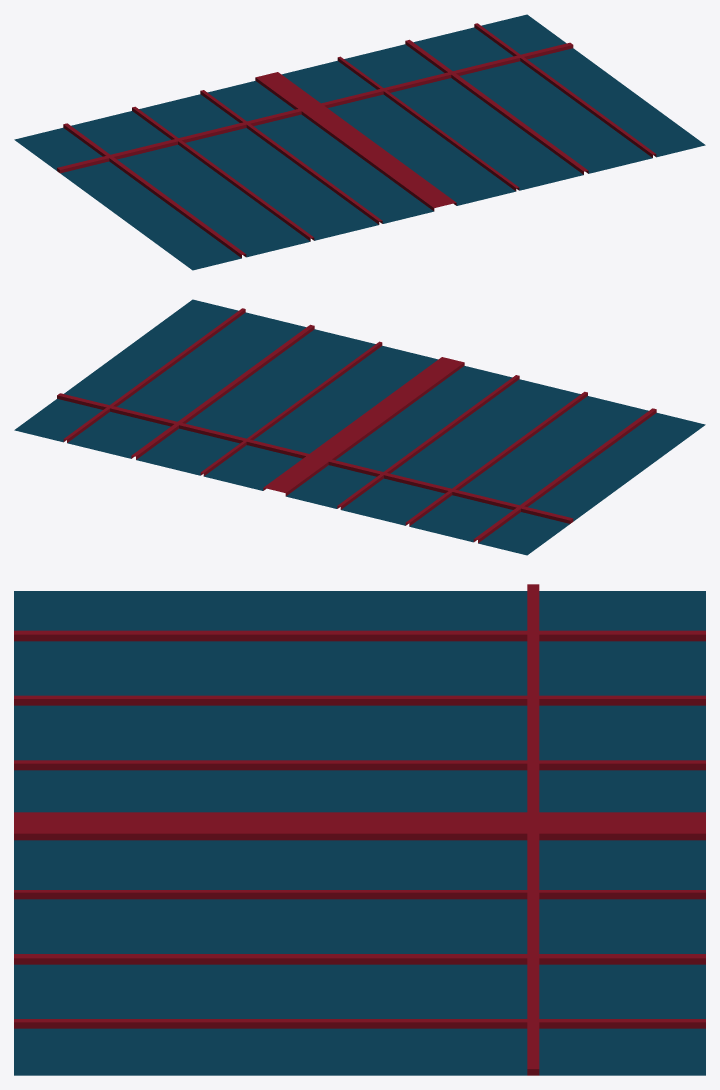
Rendered from Stålglasväggarna bakom reception1.fbx.
The picture shows the model from 3 angles, top to bottom: view 1: azimuth 30°, elevation 25°; view 2: azimuth 150°, elevation 25°; view 3: azimuth 270°, elevation 25°; orthographic projection. The views are drawn at different scales.
Parts seen in each view (by area): view 1: back_reception; view 2: back_reception; view 3: back_reception.
Boxes of the visible parts, box(x1,y1,x2,y2) form: back_reception: box(14, 14, 705, 270); back_reception: box(14, 299, 705, 555); back_reception: box(14, 584, 705, 1075).
Bounding box in the file's own units: 517 × 3.25 × 312.
